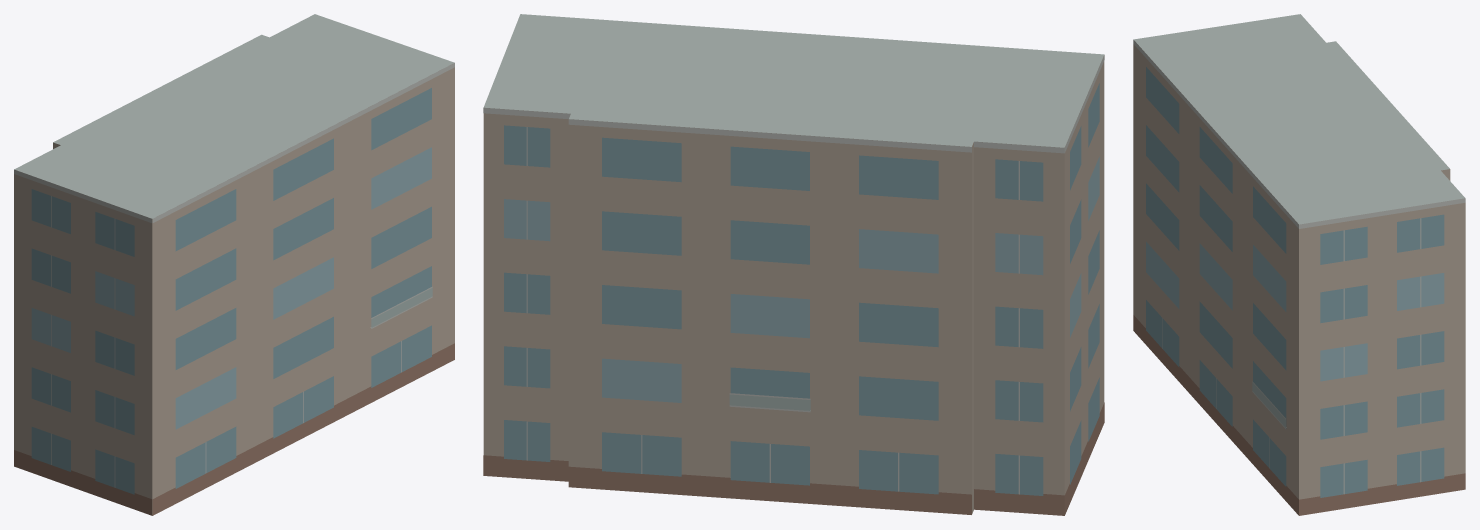
The model's file is survey-upis-32523644.glb.
The picture shows the model from 3 angles, left to right: view 1: azimuth 30°, elevation 25°; view 2: azimuth 150°, elevation 25°; view 3: azimuth 270°, elevation 25°; orthographic projection. The views are drawn at different scales.
Visible parts, largest first — view 1: survey-upis-32523644.tmp; view 2: survey-upis-32523644.tmp; view 3: survey-upis-32523644.tmp.
Boxes of the visible parts, x1,y1,x2,y2 form: survey-upis-32523644.tmp: [14, 14, 454, 515]; survey-upis-32523644.tmp: [483, 14, 1104, 515]; survey-upis-32523644.tmp: [1133, 14, 1465, 515].
Bounding box in the file's own units: 24.63 × 15.88 × 16.42.
